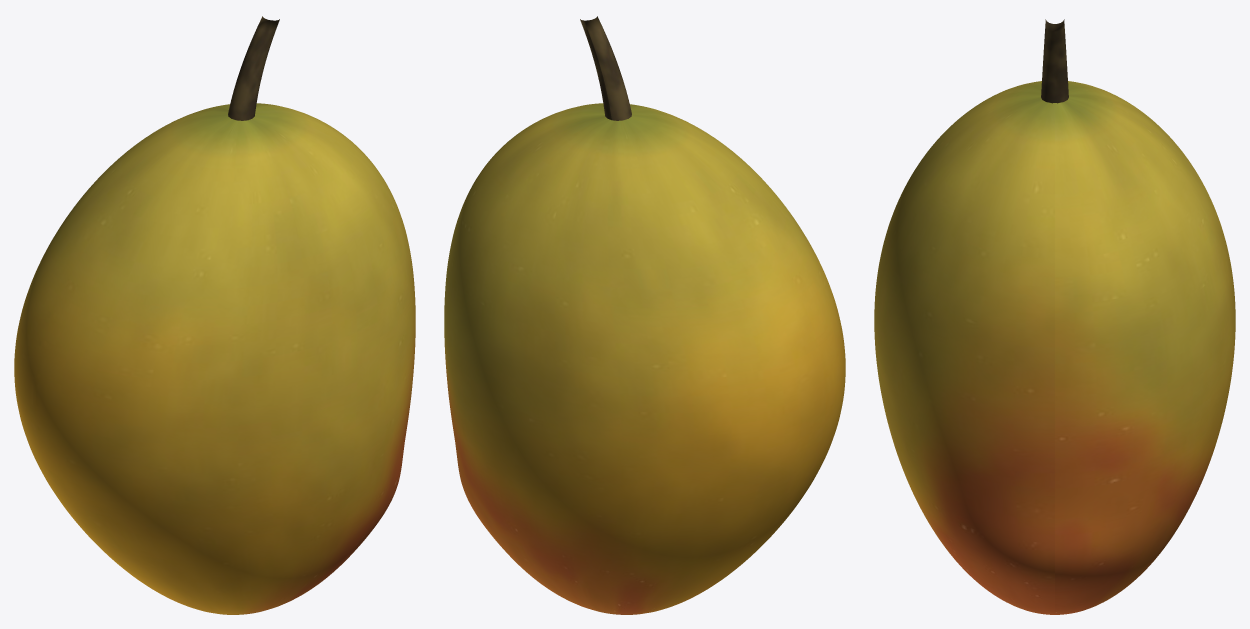
File: mangue.glb
3 renders of one model, left to right at view 1: azimuth 30°, elevation 25°; view 2: azimuth 150°, elevation 25°; view 3: azimuth 270°, elevation 25°, orthographic. The views are drawn at different scales.
Visible parts, largest first — view 1: entier_peau, moitie_A_peau, moitie_B_peau, entier_extra0; view 2: entier_peau, moitie_B_peau, moitie_A_peau, entier_extra0; view 3: entier_peau, moitie_A_peau, moitie_B_peau, entier_extra0.
Boxes of the visible parts, x1,y1,x2,y2 form: entier_peau: [14, 103, 415, 614]; moitie_A_peau: [35, 112, 415, 614]; moitie_B_peau: [14, 103, 327, 561]; entier_extra0: [228, 16, 279, 120]; entier_peau: [444, 103, 845, 614]; moitie_B_peau: [444, 112, 823, 614]; moitie_A_peau: [532, 103, 845, 559]; entier_extra0: [580, 16, 631, 120]; entier_peau: [874, 81, 1235, 614]; moitie_A_peau: [874, 81, 1053, 613]; moitie_B_peau: [1056, 81, 1235, 613]; entier_extra0: [1041, 19, 1068, 103].
Bounding box in the file's own units: 0.0843 × 0.13 × 0.0707.
Materials: 3 (3 with a texture image).
